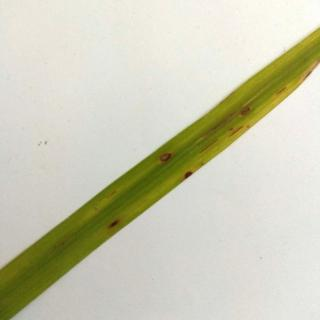Blast: (151, 146, 180, 170)
